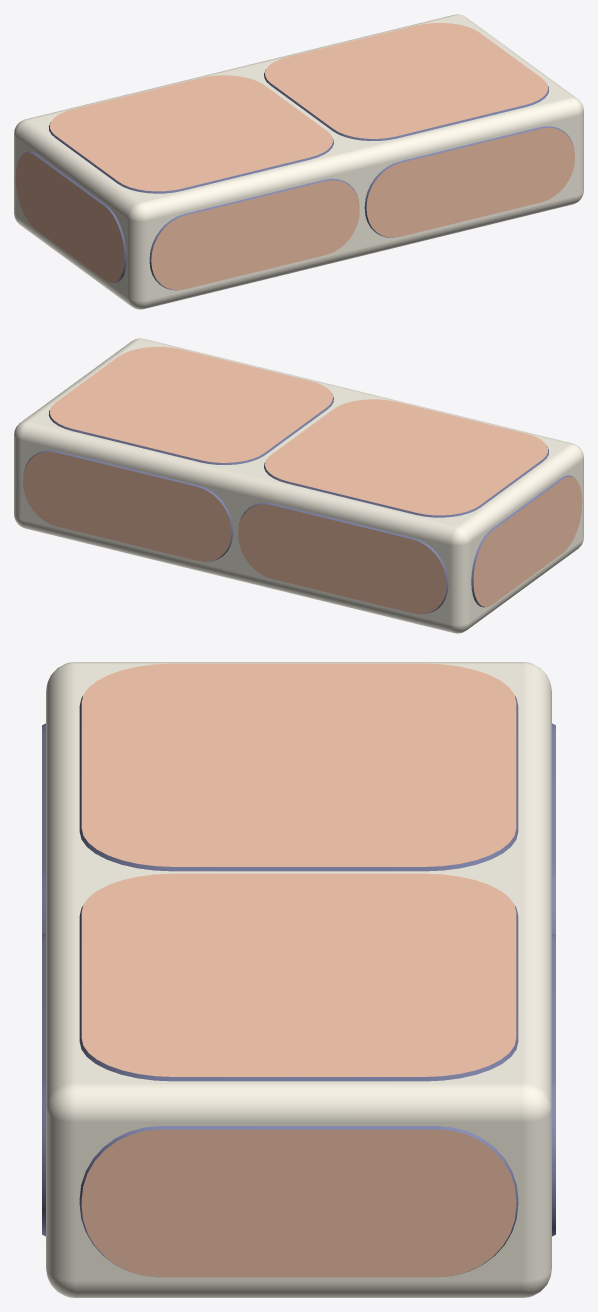
File: R4B_Plate1x2.fbx
The picture shows the model from 3 angles, top to bottom: view 1: azimuth 30°, elevation 25°; view 2: azimuth 150°, elevation 25°; view 3: azimuth 270°, elevation 25°; orthographic projection. The views are drawn at different scales.
Parts seen in each view (by area): view 1: R4B_Plate1x2; view 2: R4B_Plate1x2; view 3: R4B_Plate1x2.
Part boxes in pixels (left/top/right/bottom): R4B_Plate1x2: left=14, top=14, right=583, bottom=309; R4B_Plate1x2: left=14, top=338, right=583, bottom=633; R4B_Plate1x2: left=42, top=662, right=555, bottom=1297.
Size of the model in its own units: 1.07 by 0.245 by 0.52.
